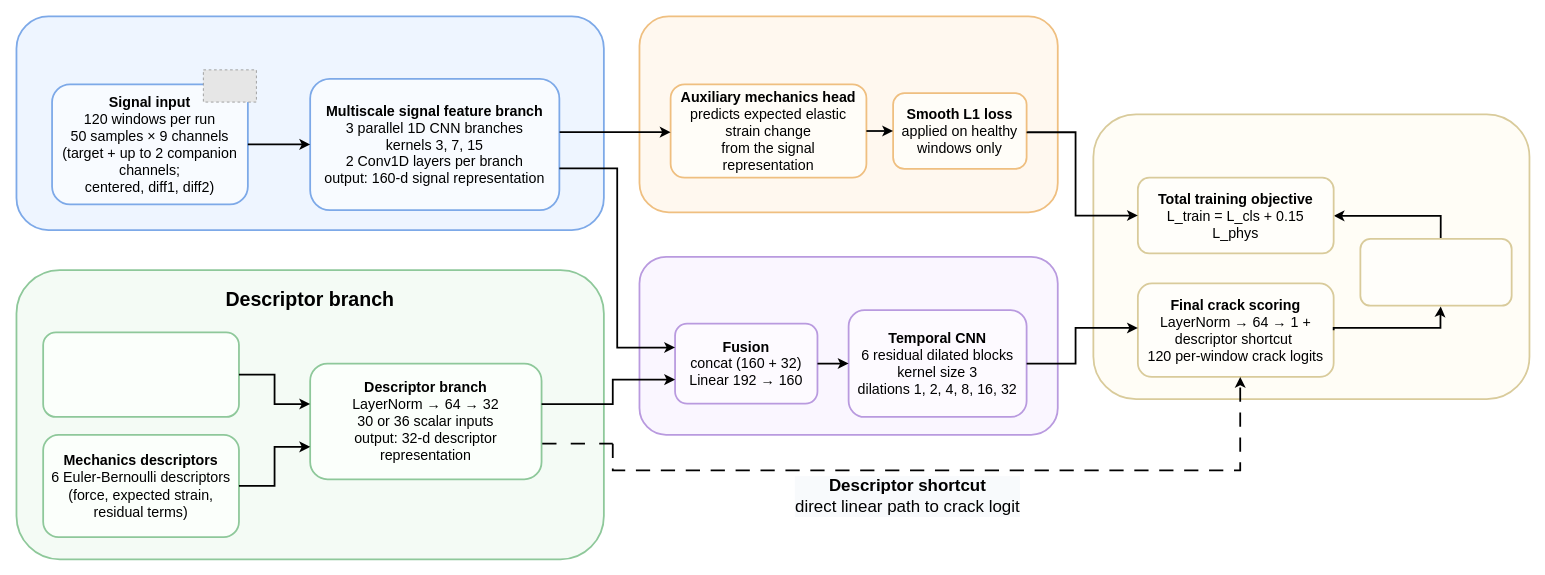
This 1545x575 diagram has some shape labels left out. Grey dashed boxes stand in for pictures. The shapes that lost their labels are listed below. From the top down, each one's box as (x1, y1, x2, y2) in pixels, then its label:
(15, 15, 604, 231): Signal branch
(638, 15, 1058, 213): Auxiliary Mechanics Supervision
(1092, 113, 1530, 400): Prediction and Losses
(1359, 238, 1512, 306): Weighted BCE loss classification loss
(638, 255, 1058, 435): Fusion + Sequence Model
(42, 331, 239, 417): Statistical descriptors 15 base + 15 run-standardized descriptors
